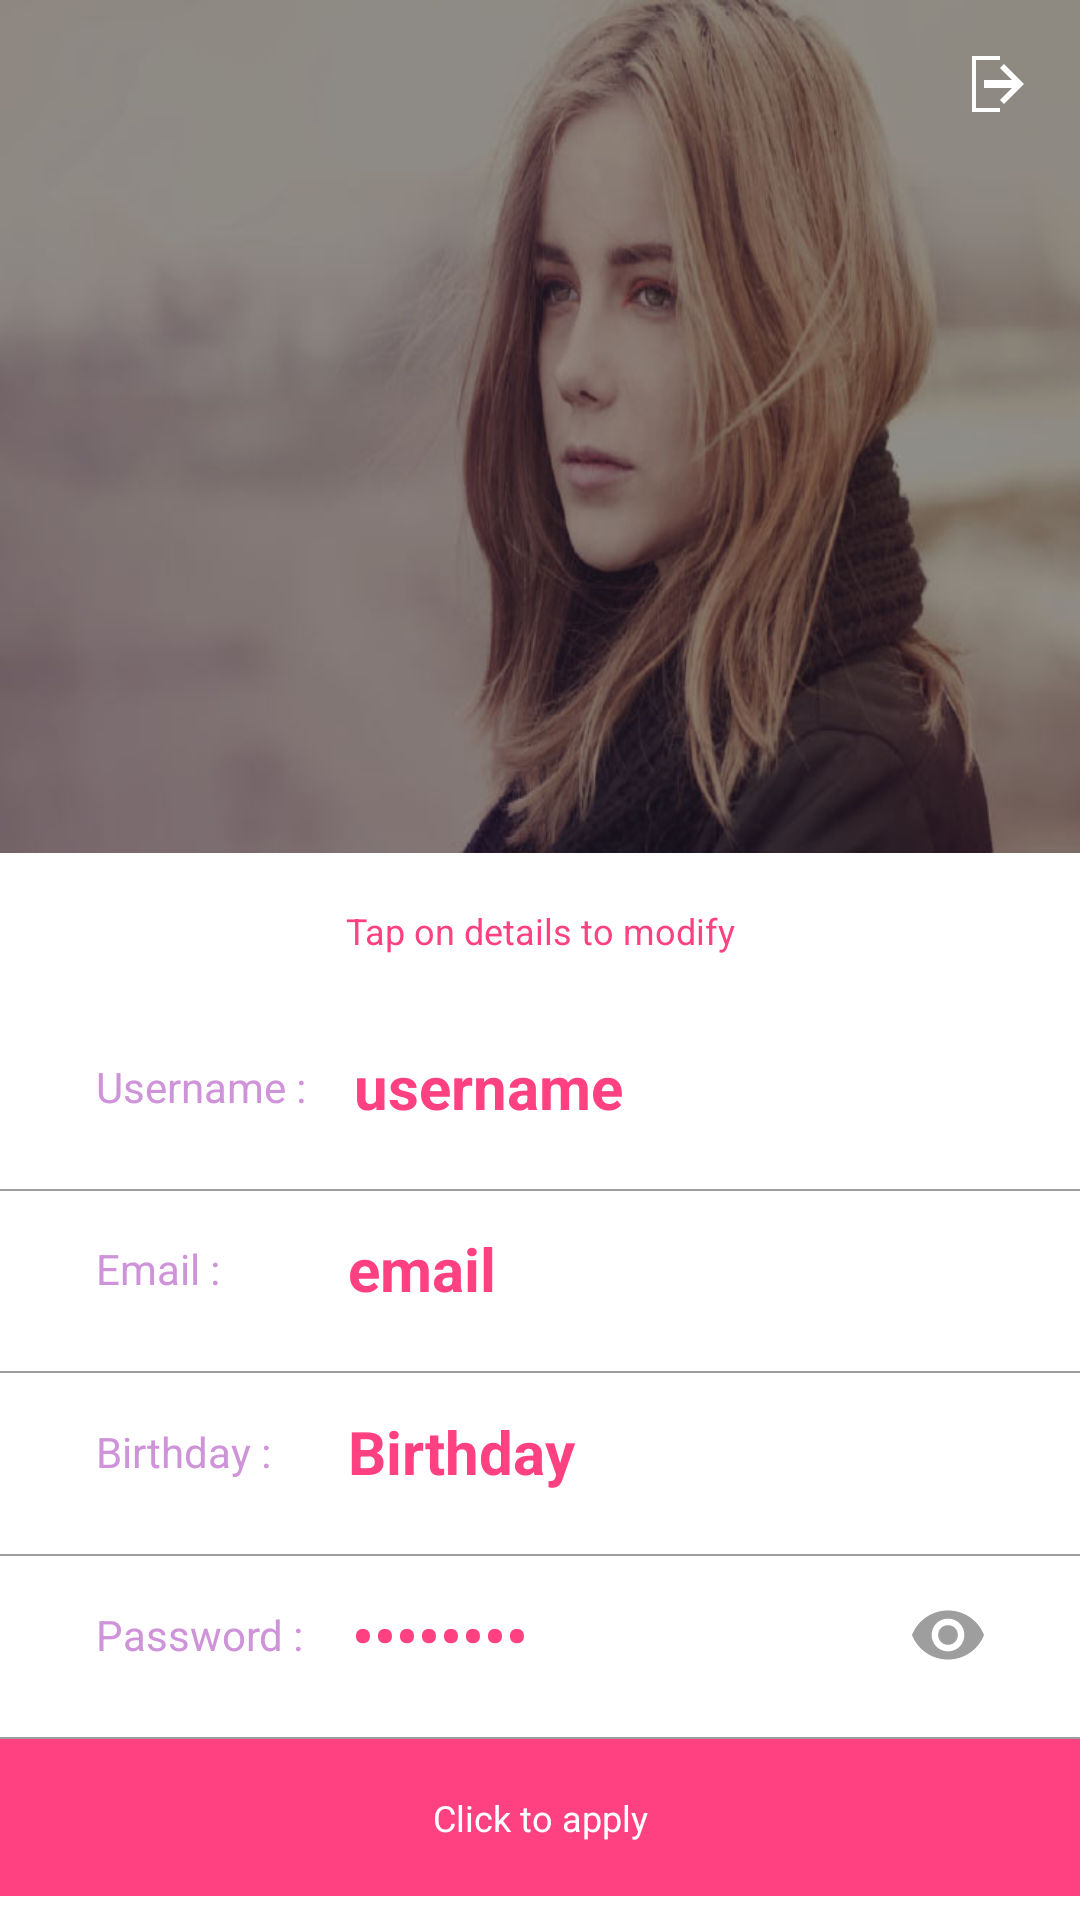

Named icons in this screenshot (1080 x 1920) and their bounding boxes, (x1, y1, x2, y2):
exit: (972, 56, 1024, 112)
visibility: (912, 1610, 984, 1660)
